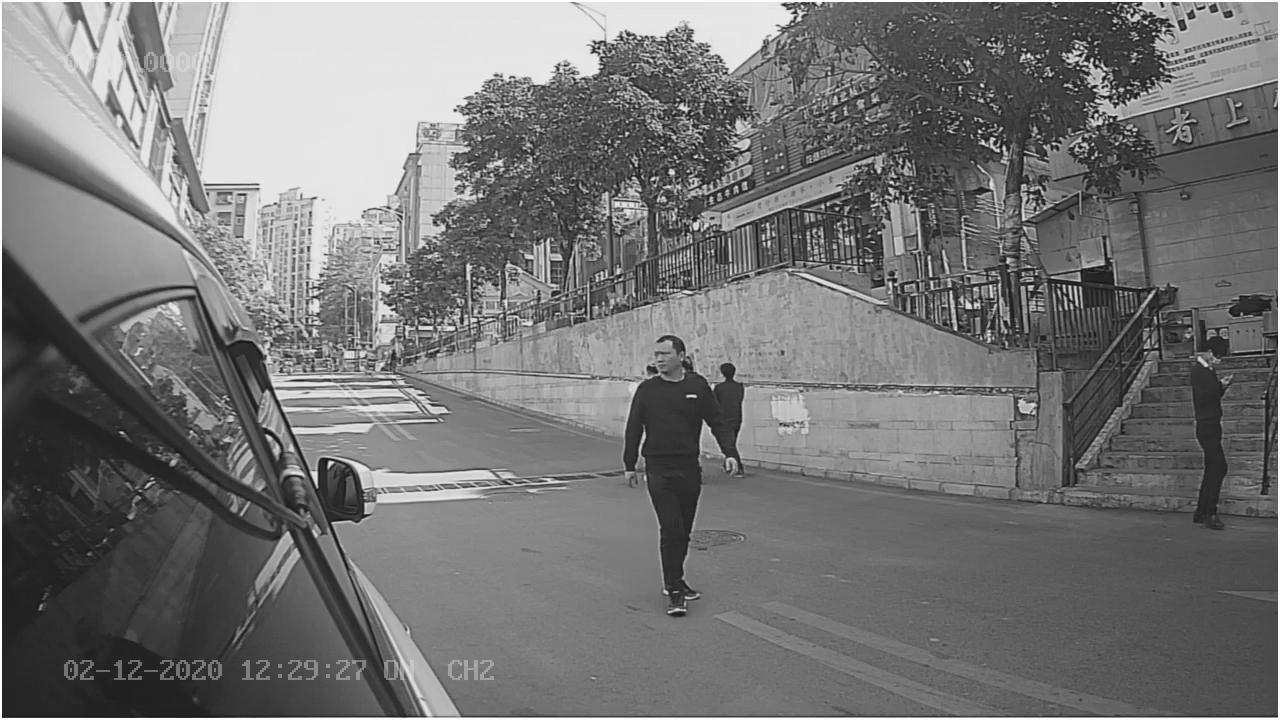person: (622, 329, 747, 620)
